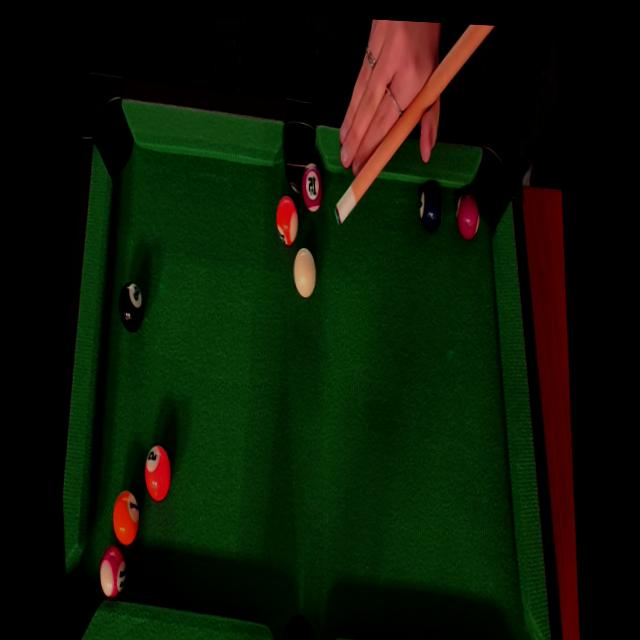cue ball: (287, 242, 321, 300)
other: (138, 435, 177, 509), (96, 538, 131, 610), (450, 181, 485, 246), (108, 484, 143, 547), (111, 275, 147, 335), (268, 191, 302, 249), (413, 175, 444, 234), (299, 164, 327, 222)
